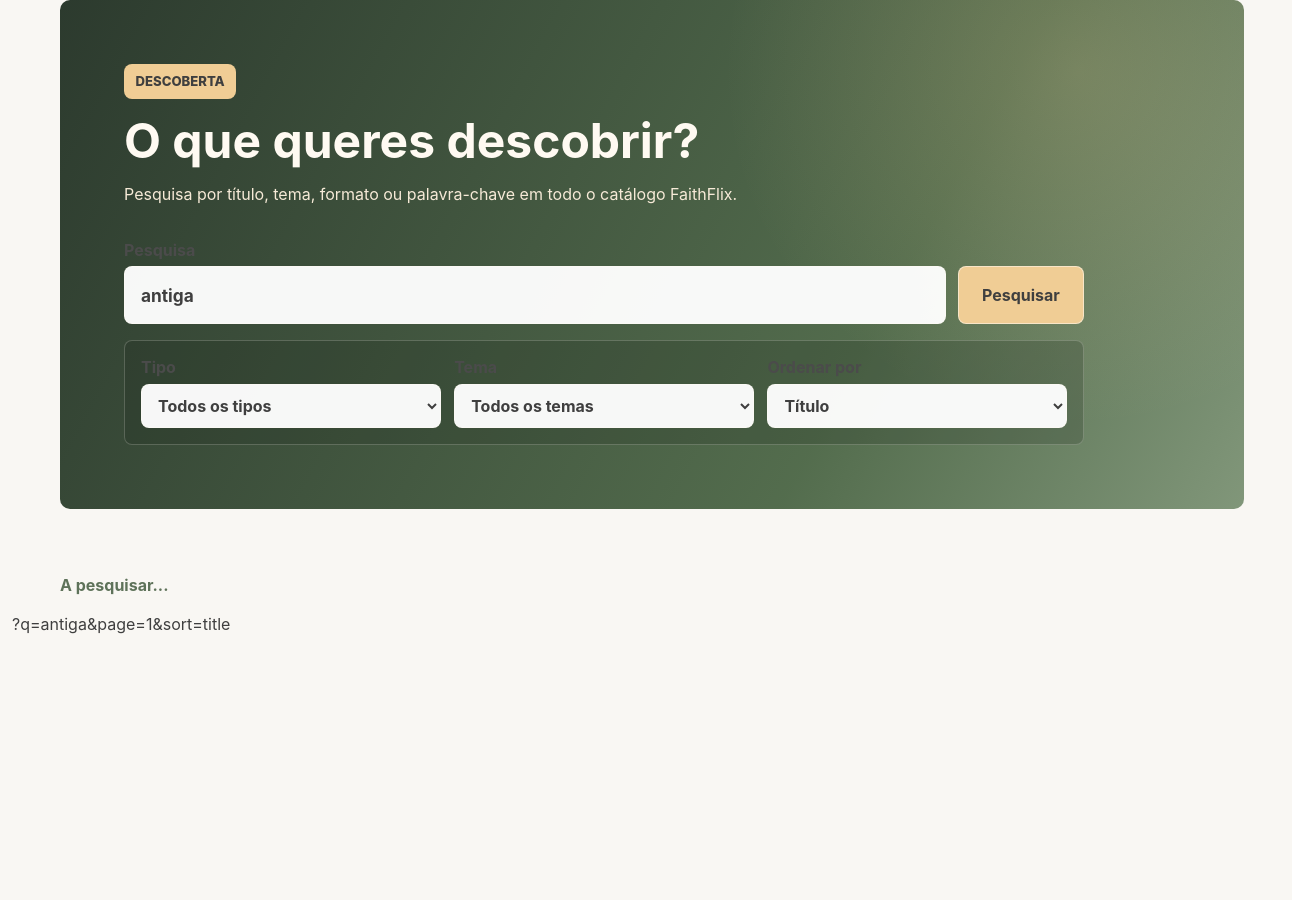
Test case: SearchPage › ignora uma resposta antiga depois de nova navegação
Replace the text in the field labelled "Pesquisa" with "nova" at (535,295), box [124, 266, 946, 324]
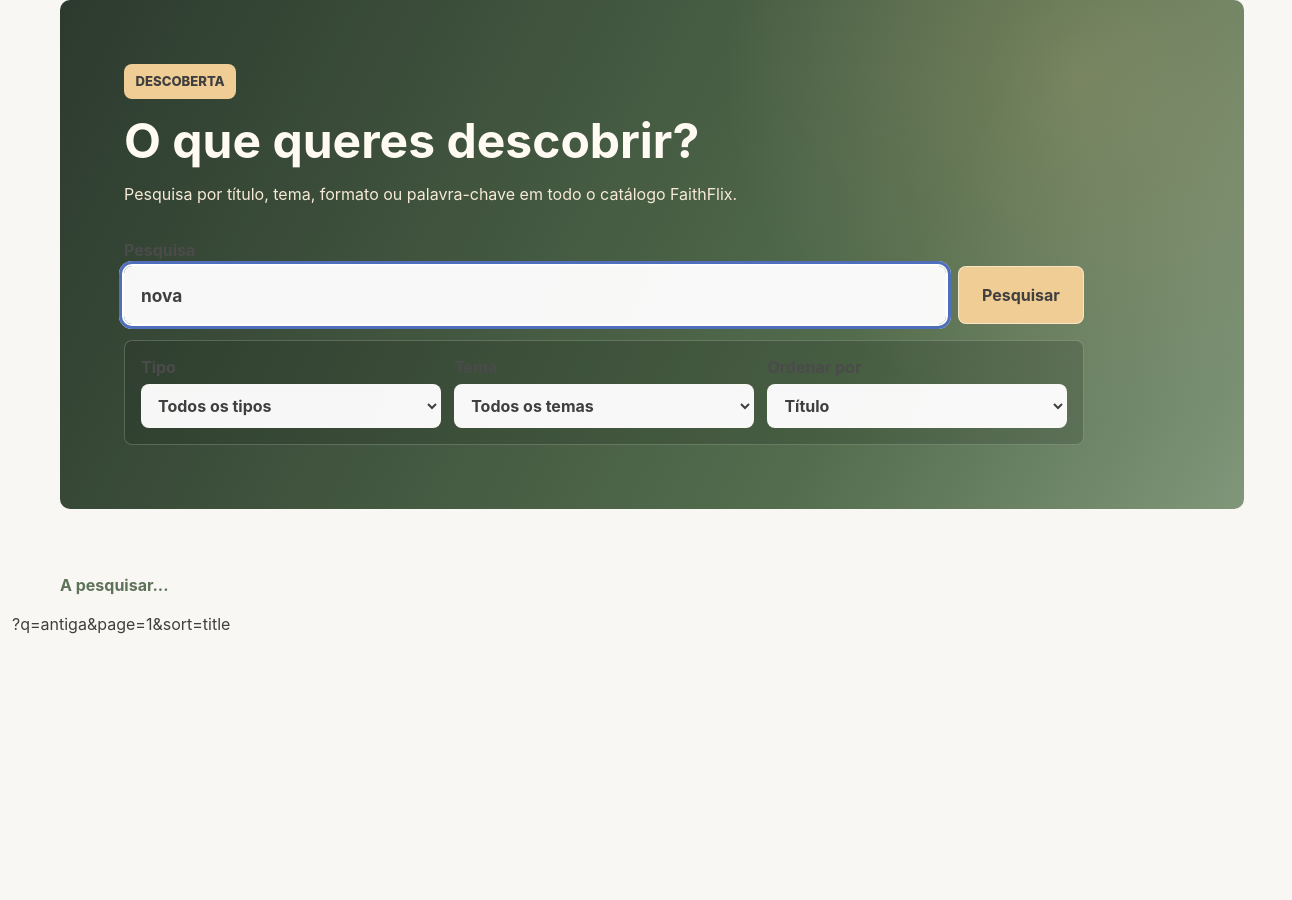
Click the button "Pesquisar".
click(1021, 295)  # box [958, 266, 1084, 324]
(page scrolled)
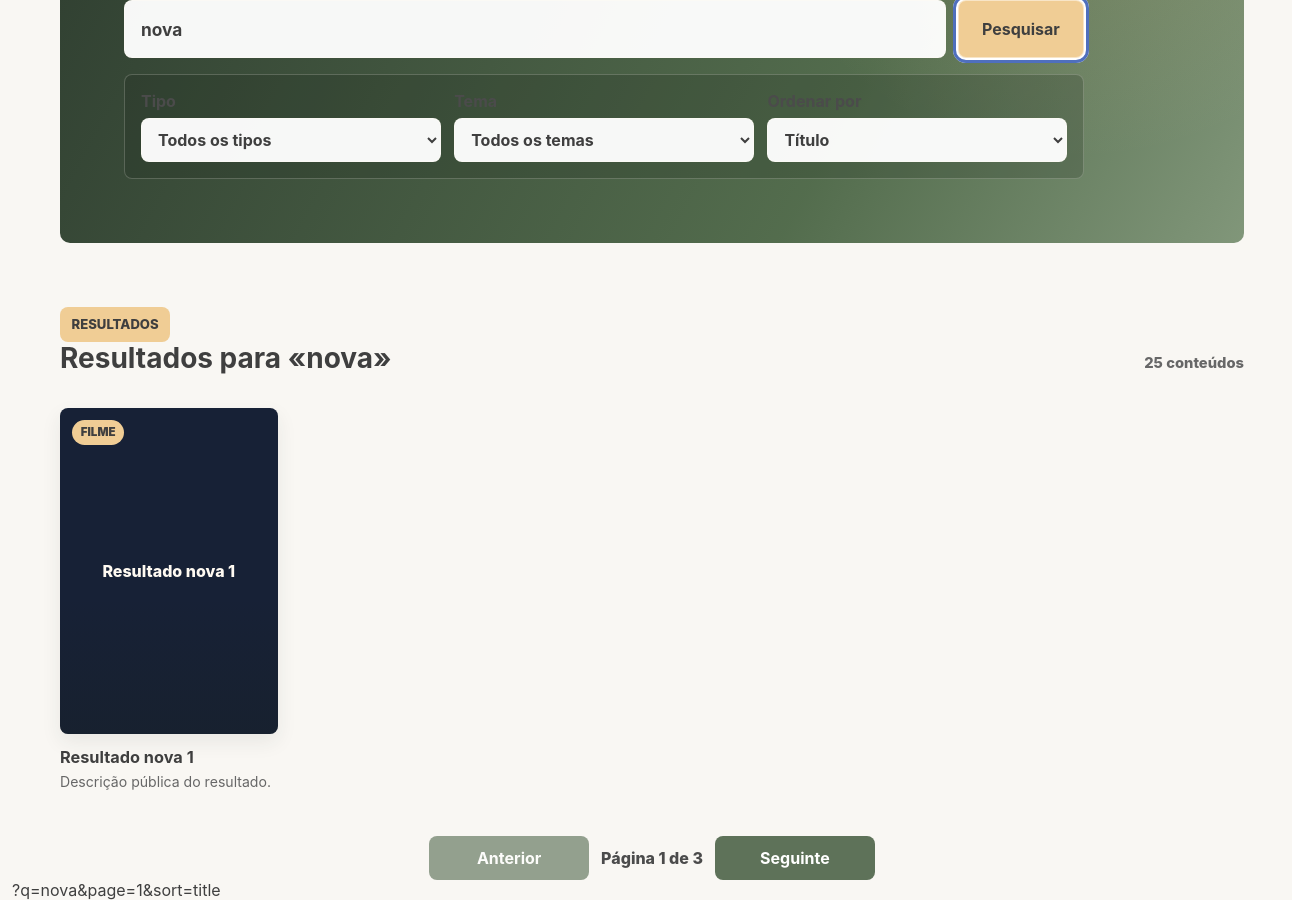
Expected: the link with aria-label "Ver detalhe: Resultado nova 1" is shown, [60, 408, 278, 792]
